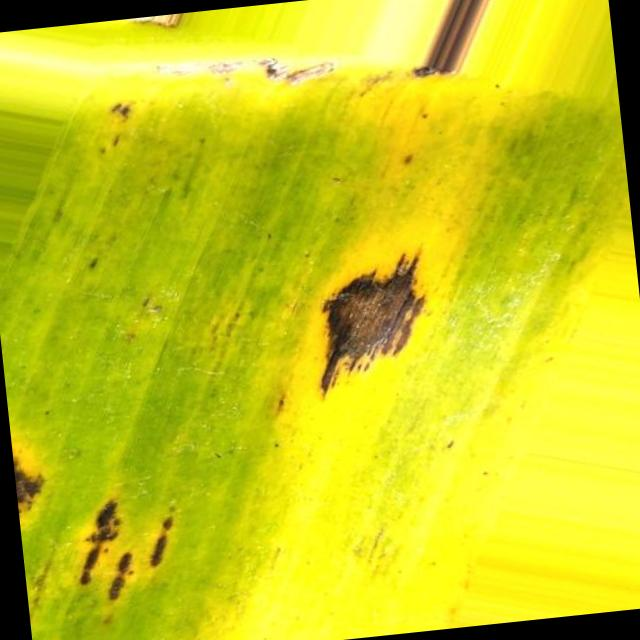Banana_Yellow_Sigatoka: (284, 220, 479, 418), (55, 459, 203, 619), (9, 418, 52, 532)
